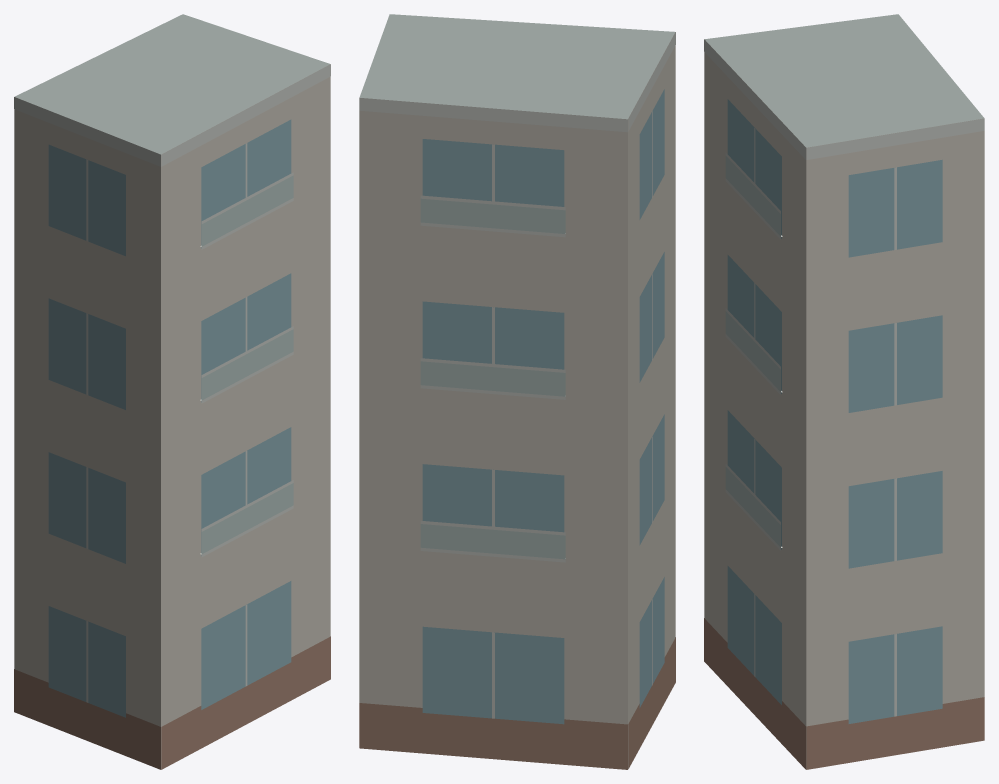
Rendered from survey-upis-32646678.glb.
3 views of the same model, side by side, from view 1: azimuth 30°, elevation 25°; view 2: azimuth 150°, elevation 25°; view 3: azimuth 270°, elevation 25° (orthographic). The views are drawn at different scales.
Visible parts, largest first — view 1: survey-upis-32646678.tmp; view 2: survey-upis-32646678.tmp; view 3: survey-upis-32646678.tmp.
Part boxes in pixels (bbox=[...]): survey-upis-32646678.tmp: bbox=[14, 14, 330, 769]; survey-upis-32646678.tmp: bbox=[359, 14, 675, 769]; survey-upis-32646678.tmp: bbox=[704, 14, 984, 769].
Bounding box in the file's own units: 5.63 × 12.2 × 4.99.
